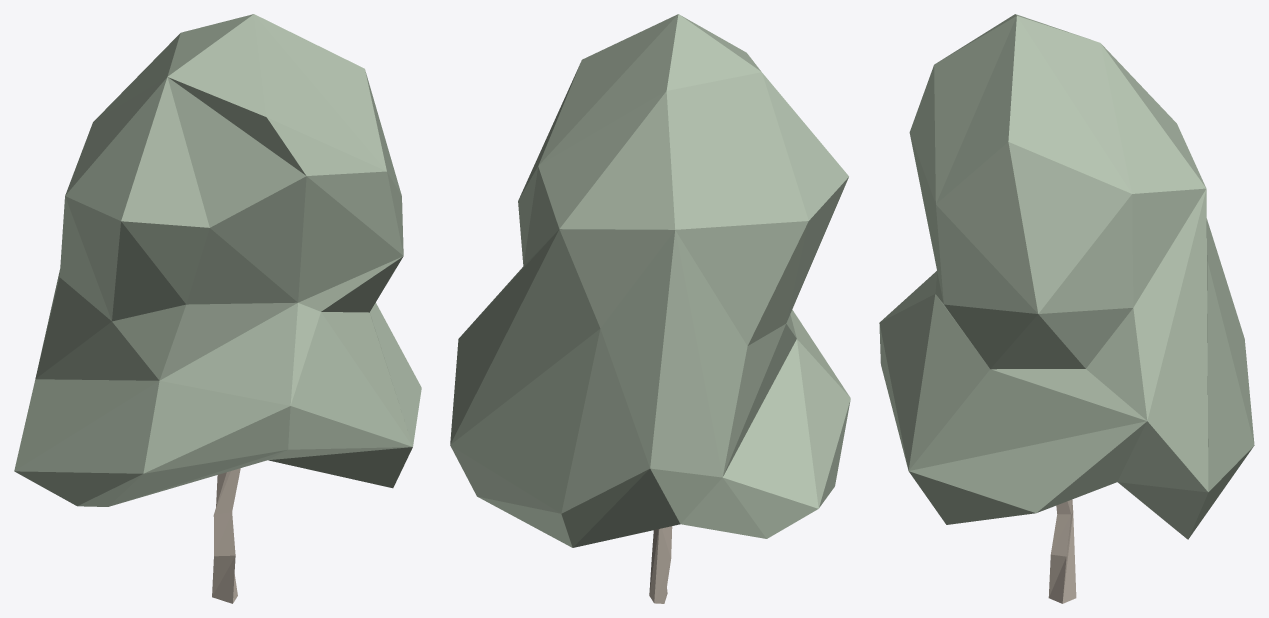
Rendered from EucalyptusGlobulus.glb.
3 renders of one model, left to right at view 1: azimuth 30°, elevation 25°; view 2: azimuth 150°, elevation 25°; view 3: azimuth 270°, elevation 25°, orthographic. The views are drawn at different scales.
Parts seen in each view (by area): view 1: Crown, Trunk; view 2: Crown, Trunk; view 3: Crown, Trunk.
Boxes of the visible parts, x1=… form: Crown: x1=14, y1=14, x2=421, y2=506; Trunk: x1=212, y1=468, x2=240, y2=603; Crown: x1=450, y1=14, x2=850, y2=547; Trunk: x1=649, y1=526, x2=672, y2=603; Crown: x1=879, y1=14, x2=1254, y2=539; Trunk: x1=1048, y1=499, x2=1076, y2=603.
Bounding box in the file's own units: 15.75 × 24.3 × 14.13.
